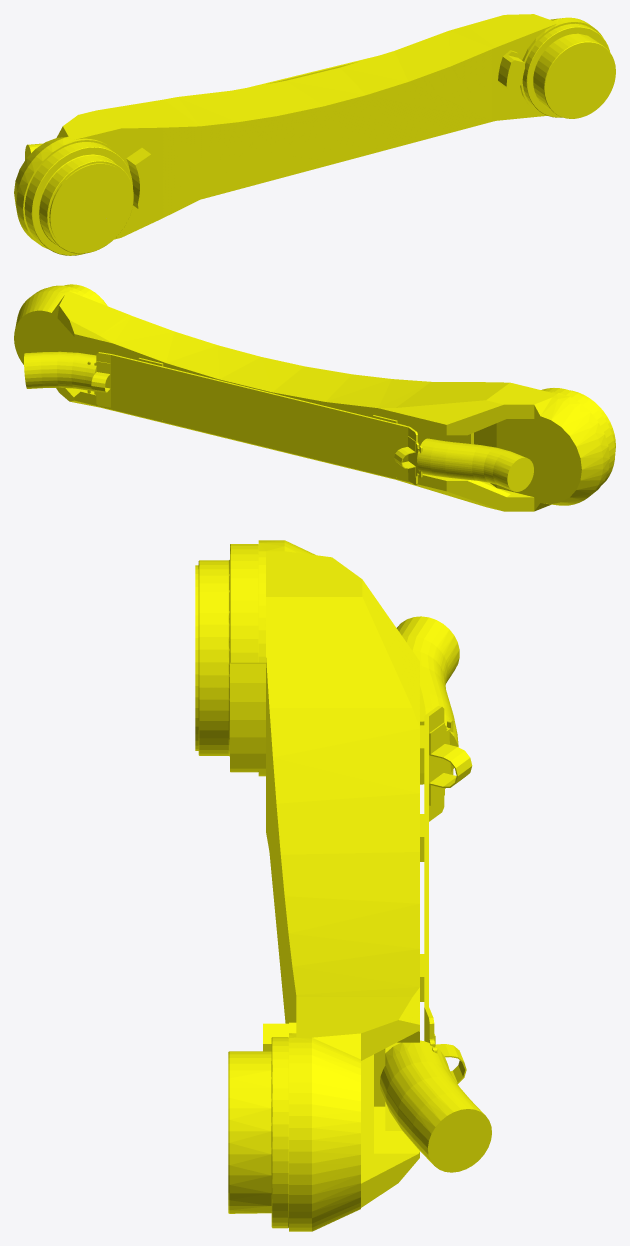
3 renders of one model, top to bottom at view 1: azimuth 30°, elevation 25°; view 2: azimuth 150°, elevation 25°; view 3: azimuth 270°, elevation 25°, orthographic. The views are drawn at different scales.
Visible parts, largest first — view 1: node; view 2: node; view 3: node.
Boxes of the visible parts, x1,y1,x2,y2 form: node: [14, 14, 615, 255]; node: [14, 284, 615, 511]; node: [195, 540, 491, 1231].
Bounding box in the file's own units: 931 × 164 × 246.
